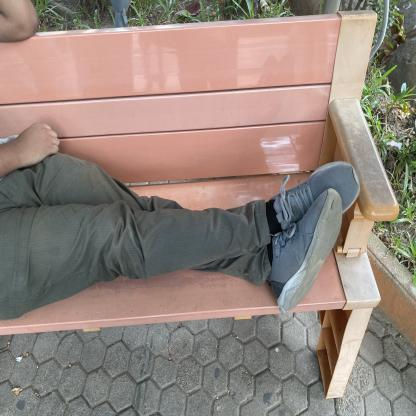leg: (172, 184, 370, 314), (212, 151, 392, 228)
